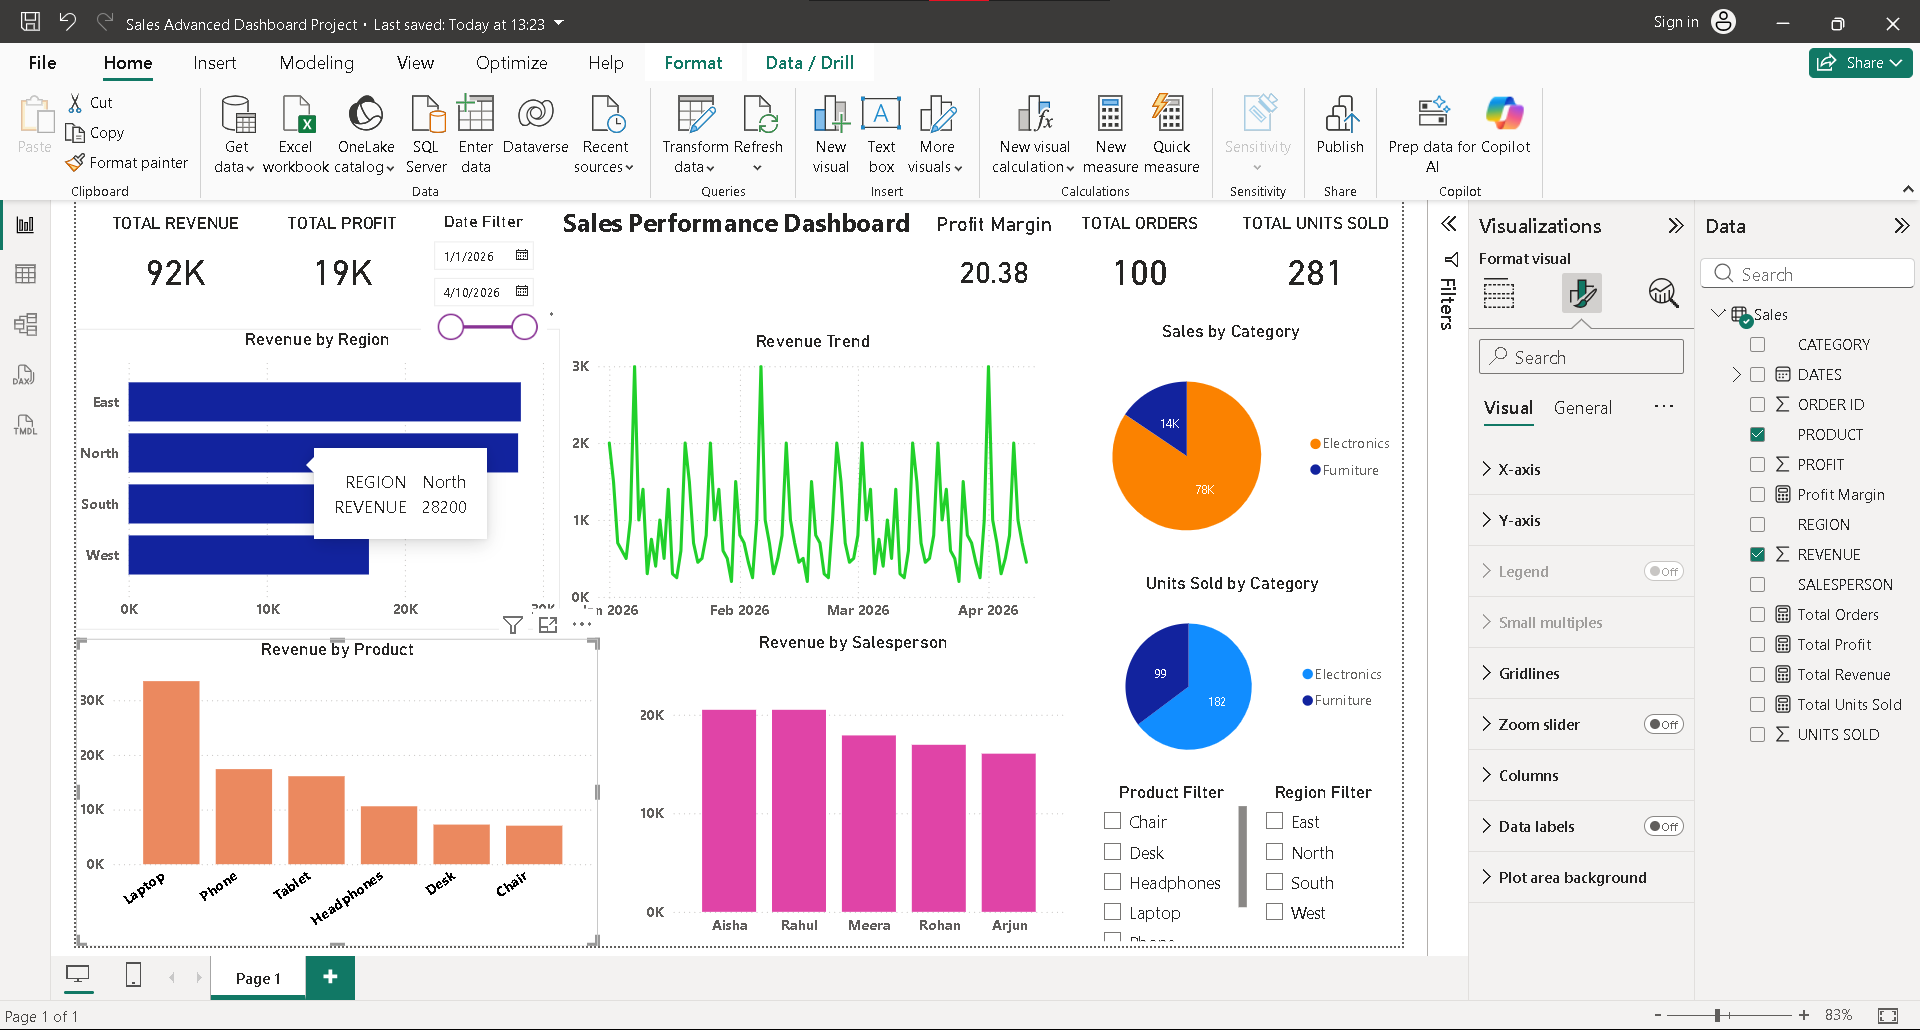

Layout of this report page (visuals, bound fields, positions):
{"tool":"powerbi","page":{"name":"Page 1","canvas":[1280,720],"ordinal":0},"visuals":[{"type":"card","title":"TOTAL REVENUE","fields":{"Values":["Sales.Total Revenue"]},"box":[0,12.1,191.8,91.7],"z":0},{"type":"card","title":"TOTAL ORDERS","fields":{"Values":["Sales.Total Orders"]},"box":[949.5,12.1,154.4,91.7],"z":1},{"type":"card","title":"TOTAL UNITS SOLD","fields":{"Values":["Sales.Total Units Sold"]},"box":[1112.3,12.1,167.7,91.7],"z":2},{"type":"card","title":"TOTAL PROFIT","fields":{"Values":["Sales.Total Profit"]},"box":[166.5,12.1,181,91.7],"z":3},{"type":"clusteredBarChart","title":"Revenue by Region","fields":{"Category":["Sales.REGION"],"Y":["Sum(Sales.REVENUE)"]},"box":[0,124.3,466.9,290.8],"z":4},{"type":"lineChart","title":"Revenue Trend ","fields":{"Y":["Sum(Sales.REVENUE)"],"Category":["Sales.DATES.Variation.Date Hierarchy.Year","Sales.DATES.Variation.Date Hierarchy.Quarter","Sales.DATES.Variation.Date Hierarchy.Month","Sales.DATES.Variation.Date Hierarchy.Day"]},"box":[472.9,125.5,476.5,290.8],"z":5},{"type":"clusteredColumnChart","title":"Revenue by Product","fields":{"Category":["Sales.PRODUCT"],"Y":["Sum(Sales.REVENUE)"]},"box":[0,423.5,504.3,296.8],"z":6},{"type":"pieChart","title":"Sales by Category","fields":{"Category":["Sales.CATEGORY"],"Y":["Sum(Sales.REVENUE)"]},"box":[949.5,115.8,330.6,243.7],"z":7},{"type":"textbox","box":[421,0,433.1,47.1],"z":8},{"type":"slicer","title":"Date Filter","fields":{"Values":["Sales.DATES"]},"box":[333,12.1,120.6,126.7],"z":9},{"type":"card","title":"Profit Margin","fields":{"Values":["Sales.Profit Margin"]},"box":[811.9,12.1,148.4,91.7],"z":10},{"type":"slicer","title":"Product Filter","fields":{"Values":["Sales.PRODUCT"]},"box":[979.6,561,155.6,159.3],"z":11},{"type":"slicer","title":"Region Filter","fields":{"Values":["Sales.REGION"]},"box":[1135.3,561,137.5,159.3],"z":12},{"type":"clusteredColumnChart","title":"Revenue by Salesperson","fields":{"Category":["Sales.SALESPERSON"],"Y":["Sum(Sales.REVENUE)"]},"box":[540.5,416.2,419.8,304],"z":13},{"type":"donutChart","title":"Units Sold by Category","fields":{"Category":["Sales.CATEGORY"],"Y":["Sum(Sales.UNITS SOLD)"]},"box":[960.3,359.5,312.5,201.5],"z":14}]}

Visuals, with their boxes on the page's 1280x720 design canvas (x1, y1, x2, y2). These are canvas units, not pixel positions in the 1920x1030 screenshot, which may show the page scaled, cropped or inside an application window:
"TOTAL REVENUE" card: crop(0, 12, 192, 104)
"TOTAL ORDERS" card: crop(950, 12, 1104, 104)
"TOTAL UNITS SOLD" card: crop(1112, 12, 1280, 104)
"TOTAL PROFIT" card: crop(166, 12, 348, 104)
"Revenue by Region" clusteredBarChart: crop(0, 124, 467, 415)
"Revenue Trend " lineChart: crop(473, 126, 949, 416)
"Revenue by Product" clusteredColumnChart: crop(0, 424, 504, 720)
"Sales by Category" pieChart: crop(950, 116, 1280, 360)
textbox: crop(421, 0, 854, 47)
"Date Filter" slicer: crop(333, 12, 454, 139)
"Profit Margin" card: crop(812, 12, 960, 104)
"Product Filter" slicer: crop(980, 561, 1135, 720)
"Region Filter" slicer: crop(1135, 561, 1273, 720)
"Revenue by Salesperson" clusteredColumnChart: crop(540, 416, 960, 720)
"Units Sold by Category" donutChart: crop(960, 360, 1273, 561)
